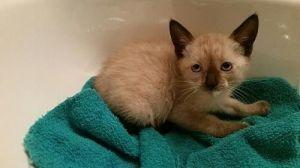siamese: (166, 9, 265, 111)
